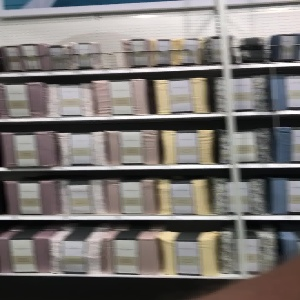void: (100, 13, 124, 69)
